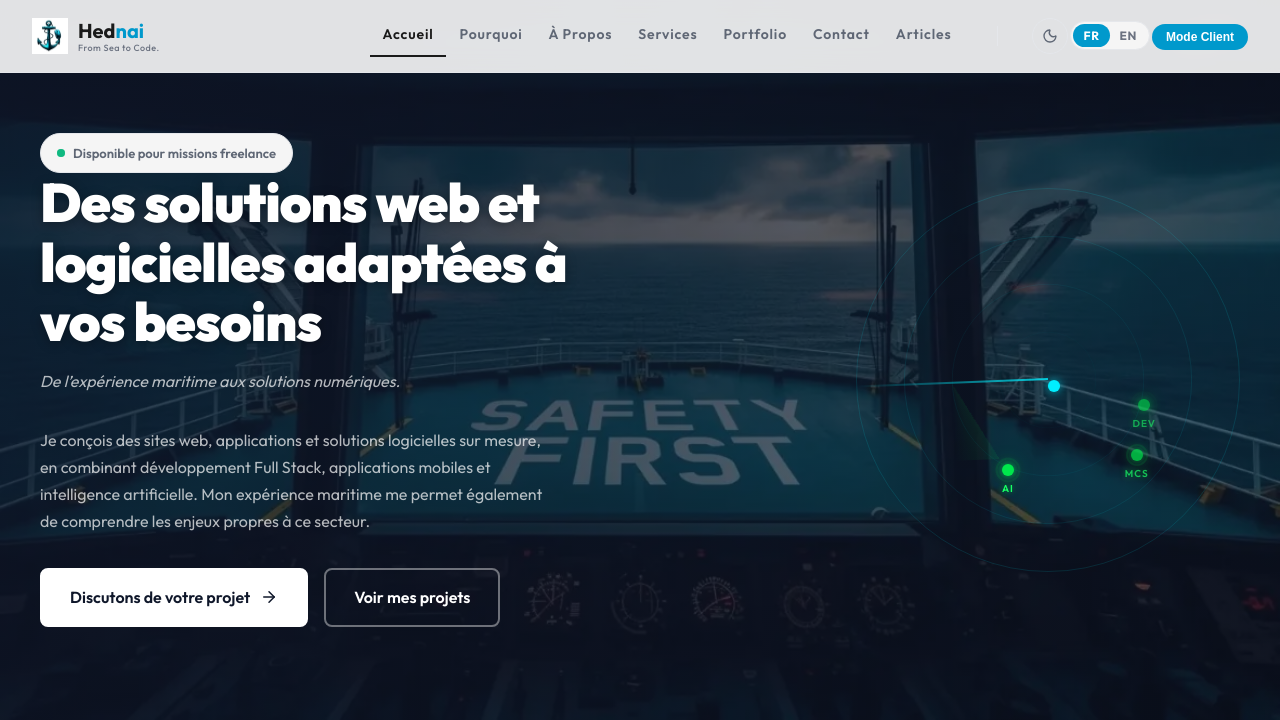
it: Formulaire de contact › affiche les erreurs de validation si le formulaire est vide
The image size is (1280, 720).
What coordinates should you click on to do the following:
click the link with class "btn--primary"
I would click on:
 (174, 598)
Its box is left=40, top=568, right=308, bottom=627.
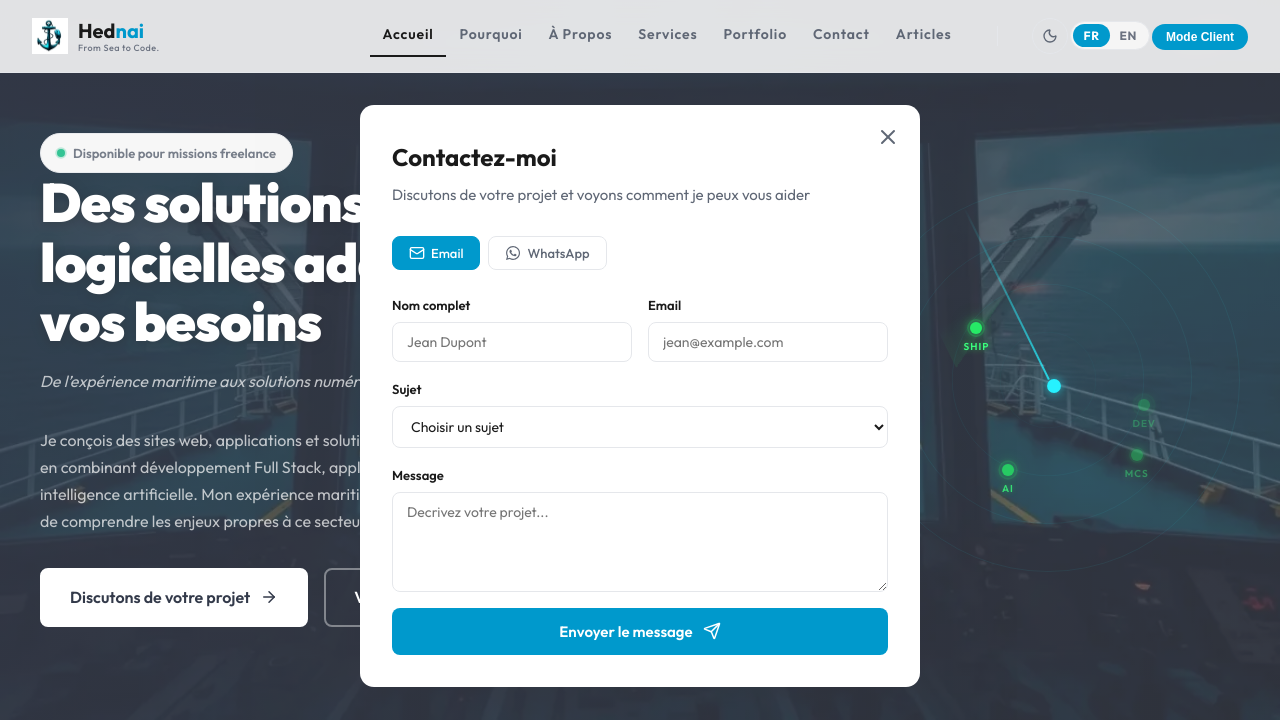
Expected: the dialog with class "contact-modal__content" is shown, left=360, top=105, right=920, bottom=687
What coordinates should you click on to do the following:
click the submit button
I would click on:
 (640, 632)
Its box is left=392, top=608, right=888, bottom=655.
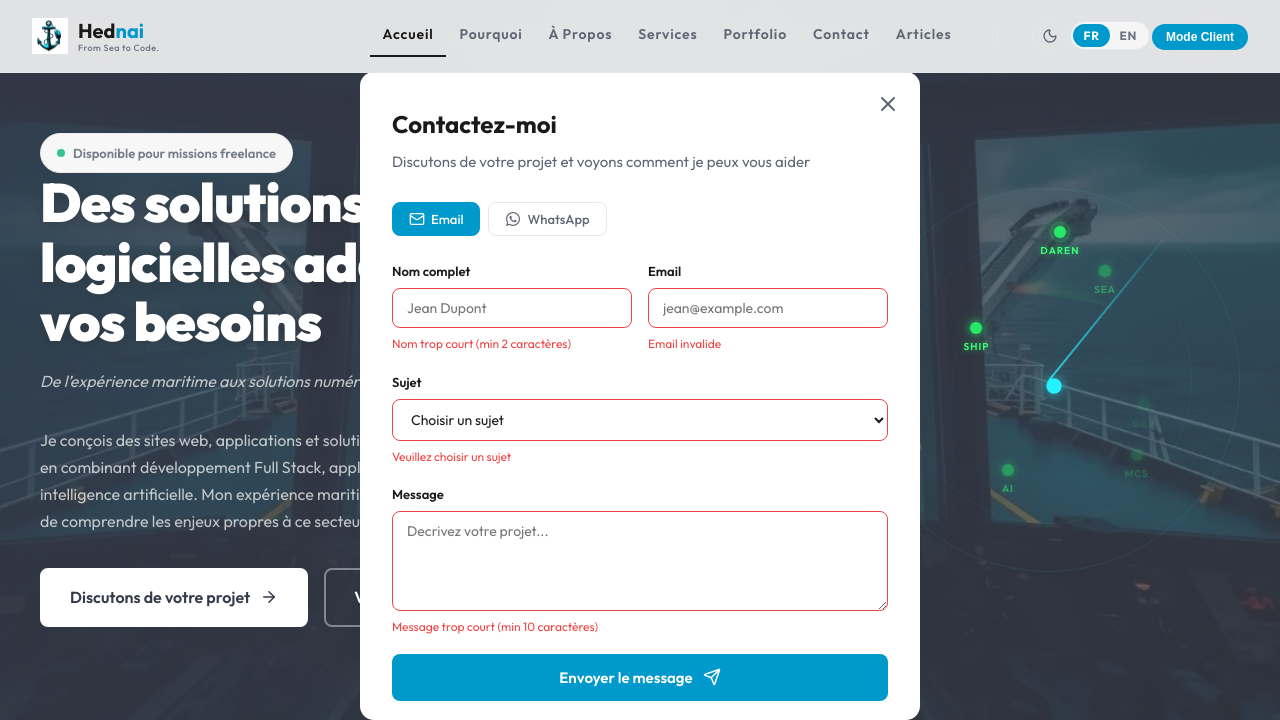
Expected: the number of messages with class "cm__error" is more than 0
